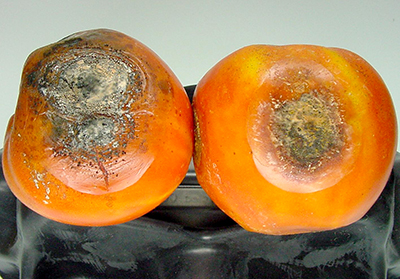anthracnose: (37, 46, 167, 182), (260, 75, 362, 190)
